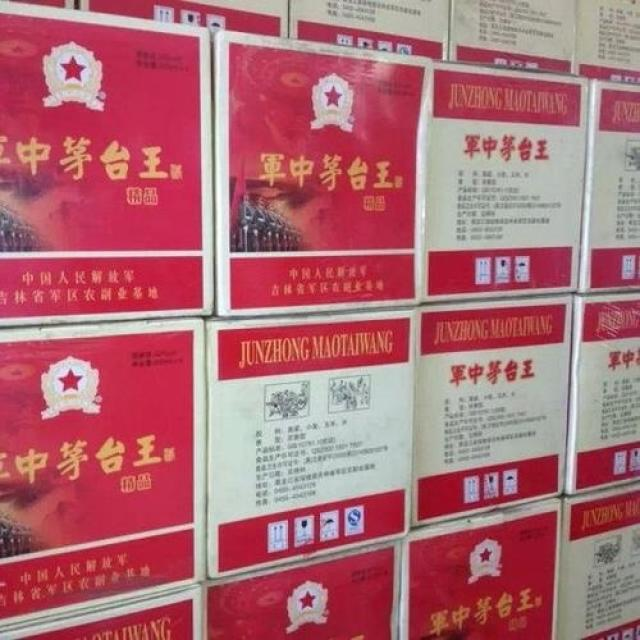box: (0, 1, 215, 328), (0, 317, 206, 631), (215, 31, 428, 317), (206, 307, 417, 581), (425, 60, 590, 303), (411, 293, 573, 527), (402, 497, 563, 639), (205, 540, 402, 640), (566, 294, 640, 497), (579, 78, 640, 294), (559, 481, 640, 640), (0, 584, 205, 640), (291, 0, 451, 61), (79, 0, 291, 37), (573, 0, 640, 83)
